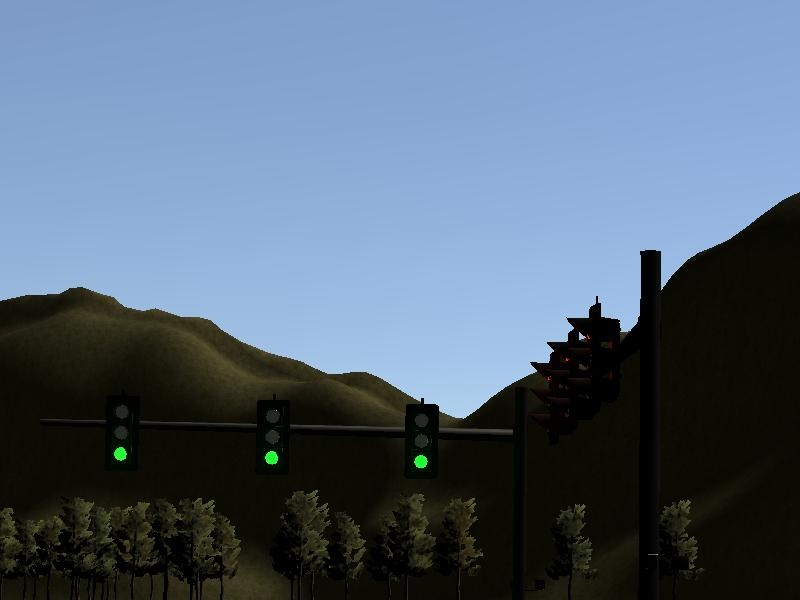GREEN: (402, 401, 439, 476), (255, 403, 290, 474), (108, 400, 137, 465)
